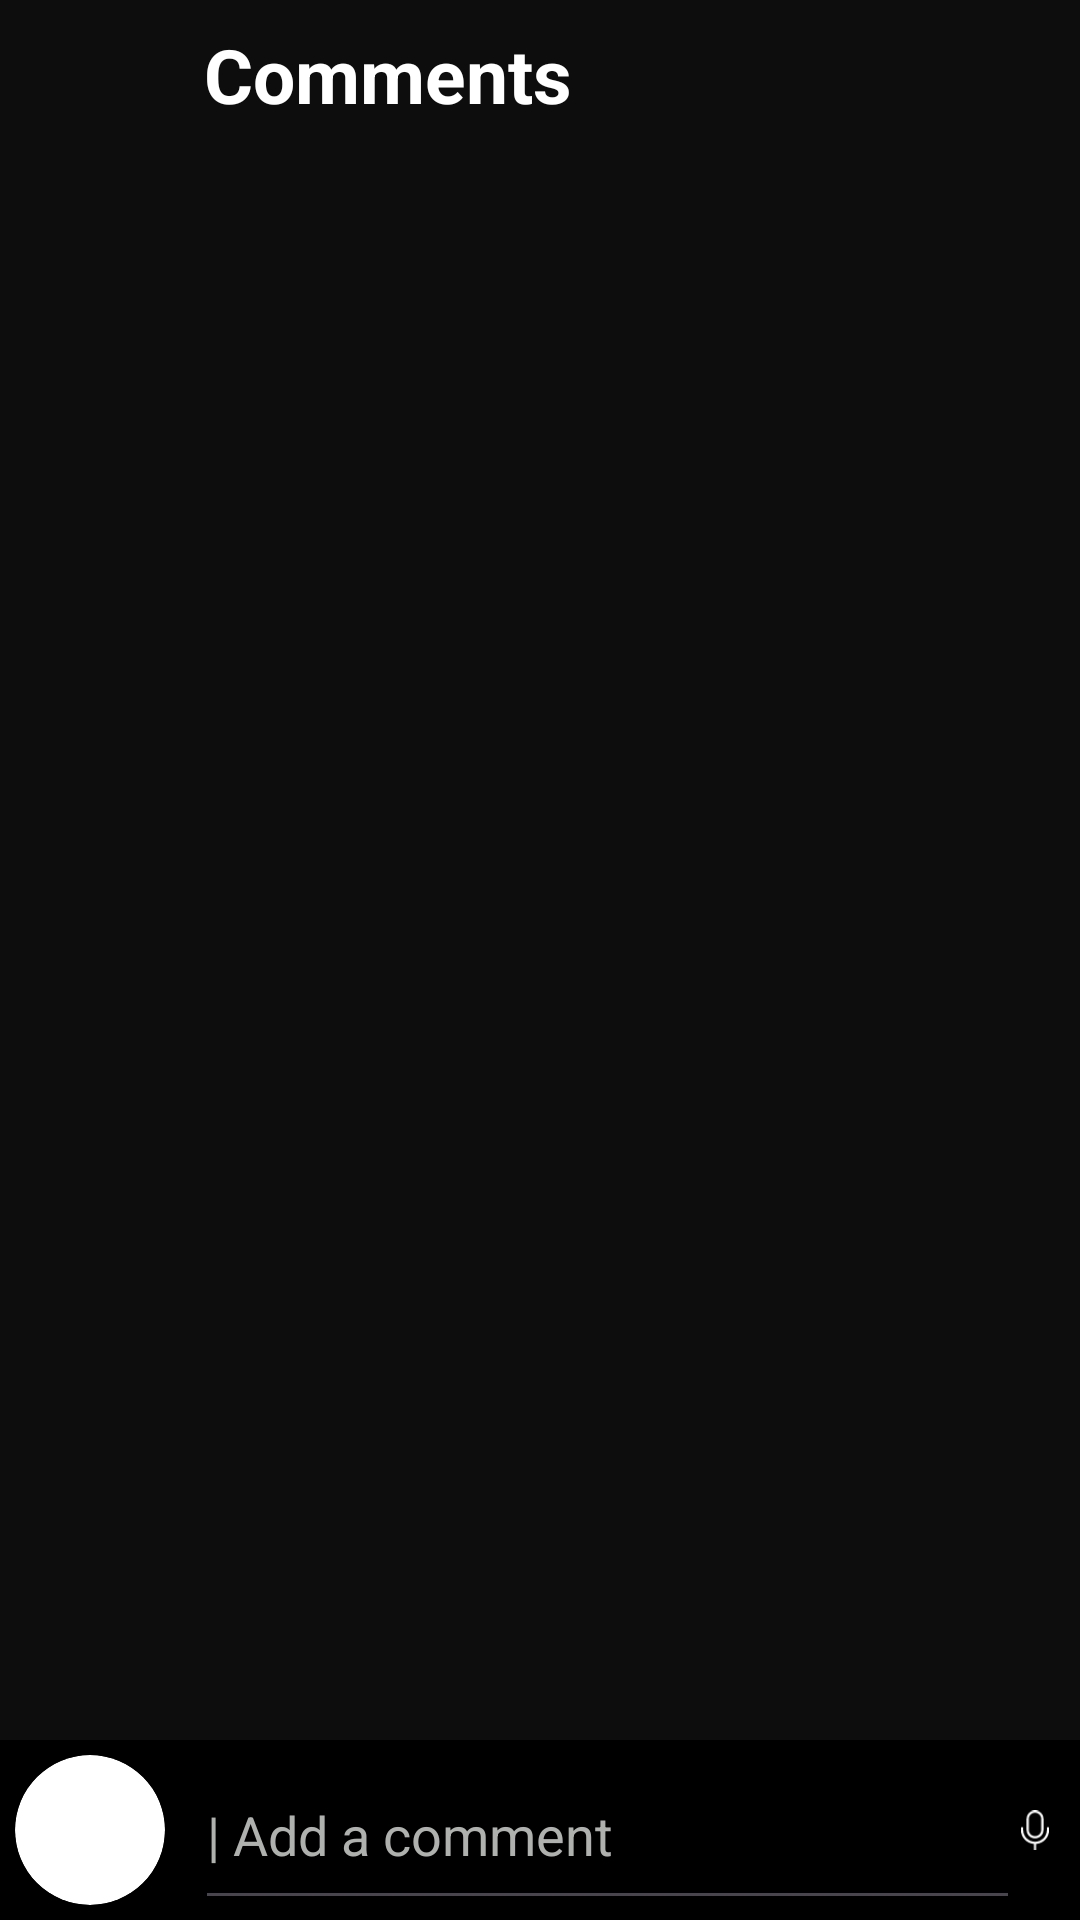

Icon click points for this 1080px x 1920px phone screenshot, format (x=x, y=y):
mike: (x=1035, y=1830)
